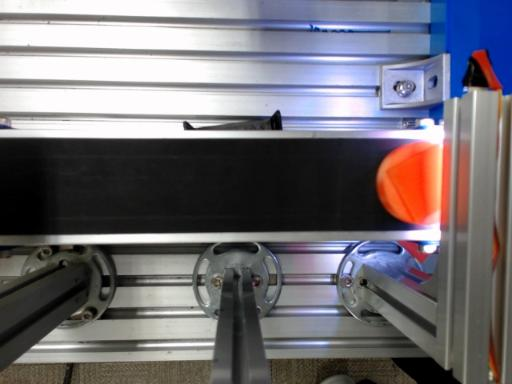Orange_Waper: (377, 142, 442, 224)
